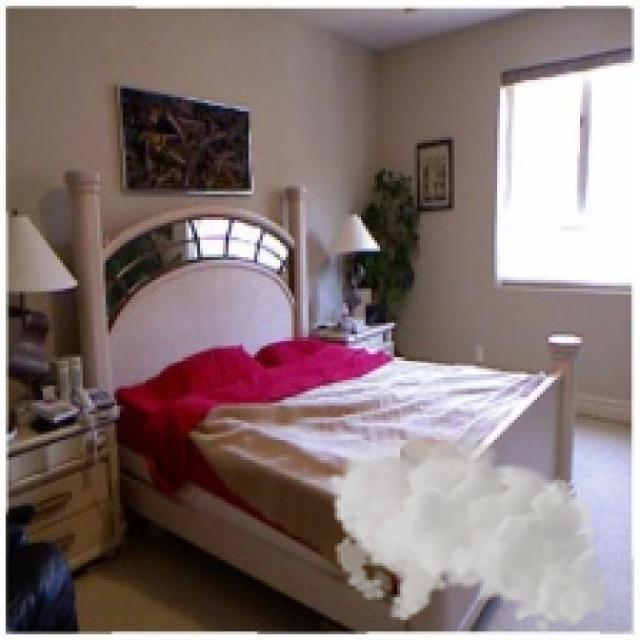smoke: (326, 423, 608, 634)
